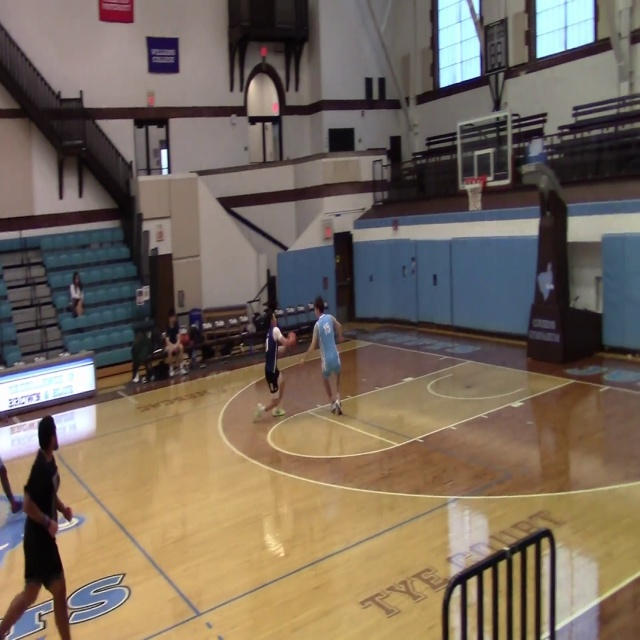Basketball: (278, 331, 297, 349)
